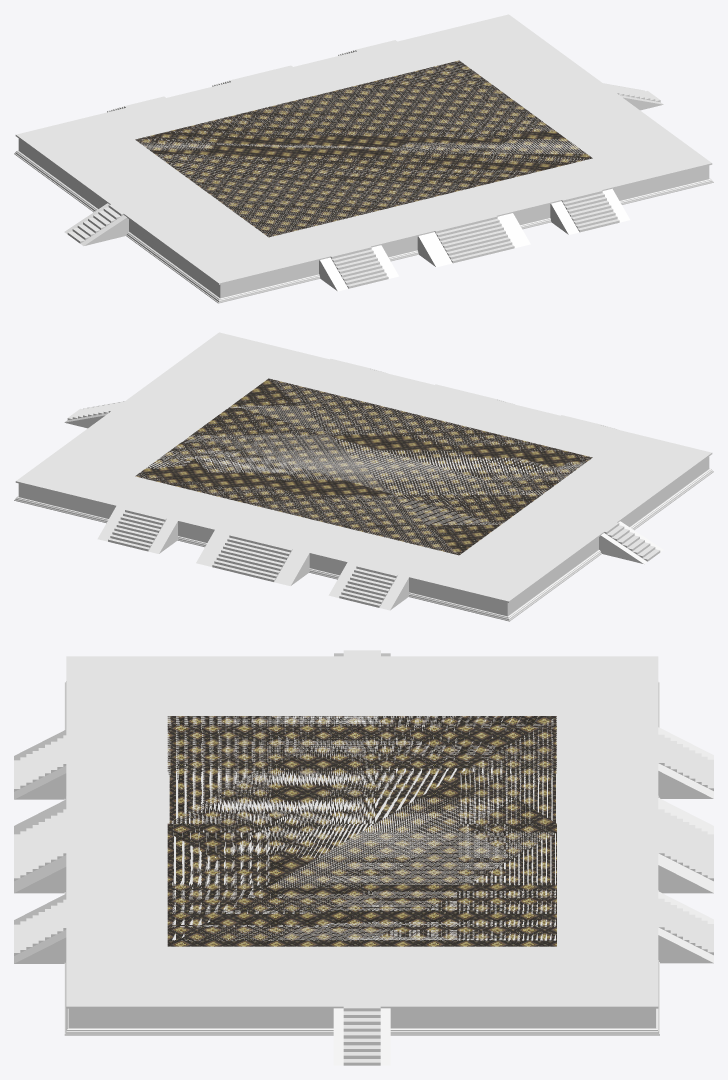
File: square.dae
The picture shows the model from 3 angles, top to bottom: view 1: azimuth 30°, elevation 25°; view 2: azimuth 150°, elevation 25°; view 3: azimuth 270°, elevation 25°; orthographic projection. The views are drawn at different scales.
Parts seen in each view (by area): view 1: base-jtd (×3), Component_1, steps_1 (×5); view 2: base-jtd (×3), Component_1, steps_1 (×5); view 3: base-jtd (×3), Component_1, steps_1 (×7).
Part boxes in pixels (bbox=[...]): base-jtd (×3): bbox=[14, 14, 713, 303]; Component_1: bbox=[135, 60, 592, 237]; steps_1 (×5): bbox=[64, 83, 663, 291]; base-jtd (×3): bbox=[14, 332, 713, 621]; Component_1: bbox=[135, 378, 592, 555]; steps_1 (×5): bbox=[64, 401, 663, 610]; base-jtd (×3): bbox=[64, 656, 659, 1035]; Component_1: bbox=[167, 716, 556, 946]; steps_1 (×7): bbox=[14, 727, 713, 1065].
Bounding box in the file's own units: 1243 × 892 × 39.69.
3 materials, 1 textured.
